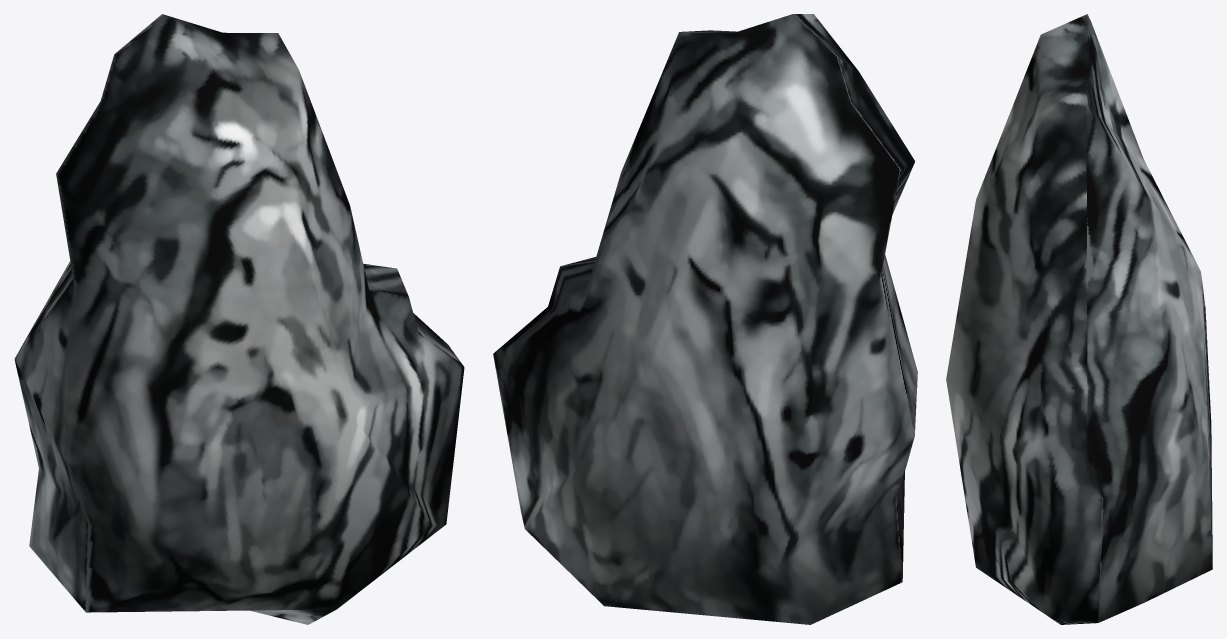
The model's file is PRP_BouldersC.fbx.
The picture shows the model from 3 angles, left to right: view 1: azimuth 30°, elevation 25°; view 2: azimuth 150°, elevation 25°; view 3: azimuth 270°, elevation 25°; orthographic projection. The views are drawn at different scales.
Visible parts, largest first — view 1: PRP_BouldersC; view 2: PRP_BouldersC; view 3: PRP_BouldersC.
Boxes of the visible parts, <box> form: PRP_BouldersC: <box>14,14,464,624</box>; PRP_BouldersC: <box>493,14,917,624</box>; PRP_BouldersC: <box>946,14,1212,624</box>.
Size of the model in its own units: 257 by 384 by 167.
1 material, 1 textured.
